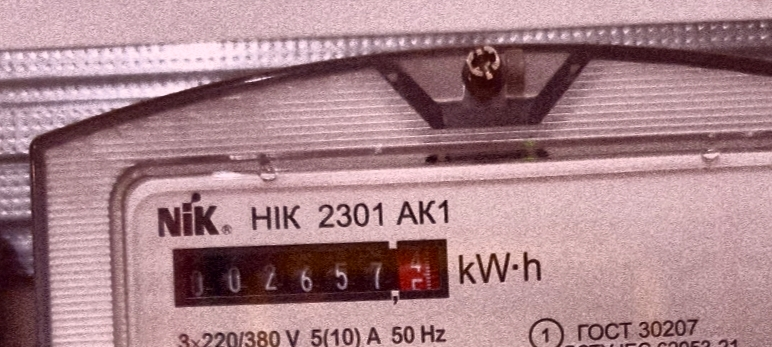0: (189, 265, 207, 295), (227, 261, 244, 292)
2: (263, 260, 280, 290)
4: (409, 245, 425, 271)
5: (334, 258, 352, 289), (411, 274, 427, 289)
6: (299, 261, 315, 291)
7: (370, 256, 387, 289)
screen: (164, 219, 463, 323)
